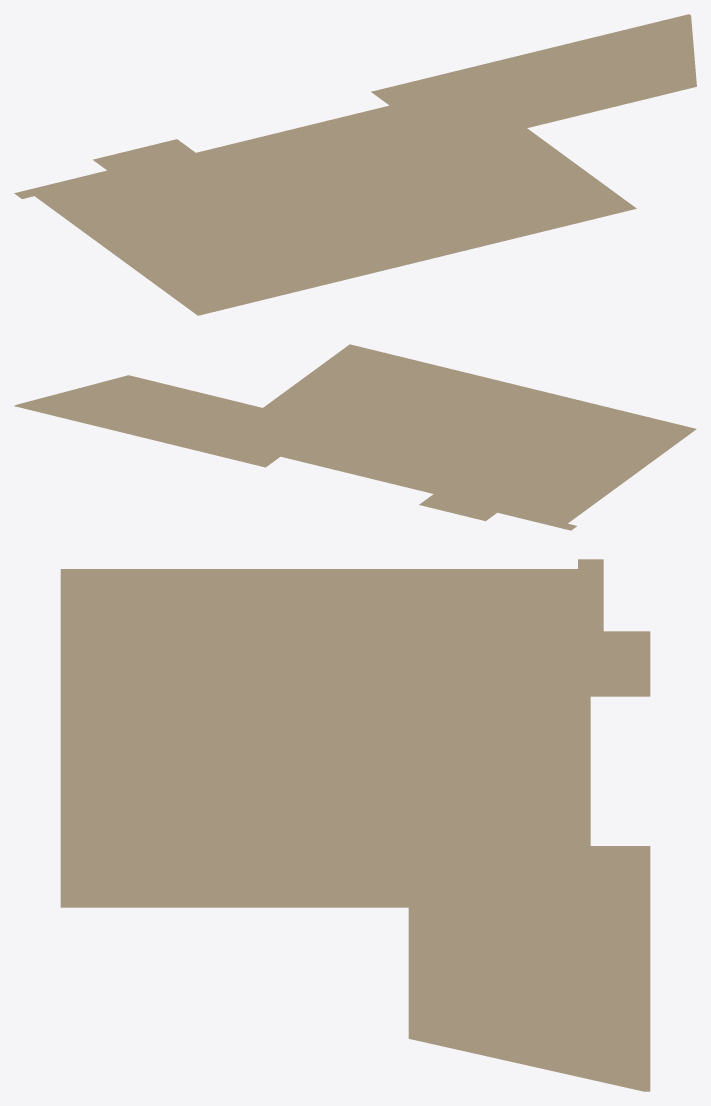
3 renders of one model, top to bottom at view 1: azimuth 30°, elevation 25°; view 2: azimuth 150°, elevation 25°; view 3: azimuth 270°, elevation 25°, orthographic. The views are drawn at different scales.
Parts seen in each view (by area): view 1: B-FF-FLOOR-022162b7; view 2: B-FF-FLOOR-022162b7; view 3: B-FF-FLOOR-022162b7.
Boxes of the visible parts, bbox=[...] form: B-FF-FLOOR-022162b7: bbox=[14, 14, 696, 315]; B-FF-FLOOR-022162b7: bbox=[14, 344, 696, 530]; B-FF-FLOOR-022162b7: bbox=[60, 559, 650, 1091].
Size of the model in its own units: 12.72 by 1.33e-15 by 5.95.
